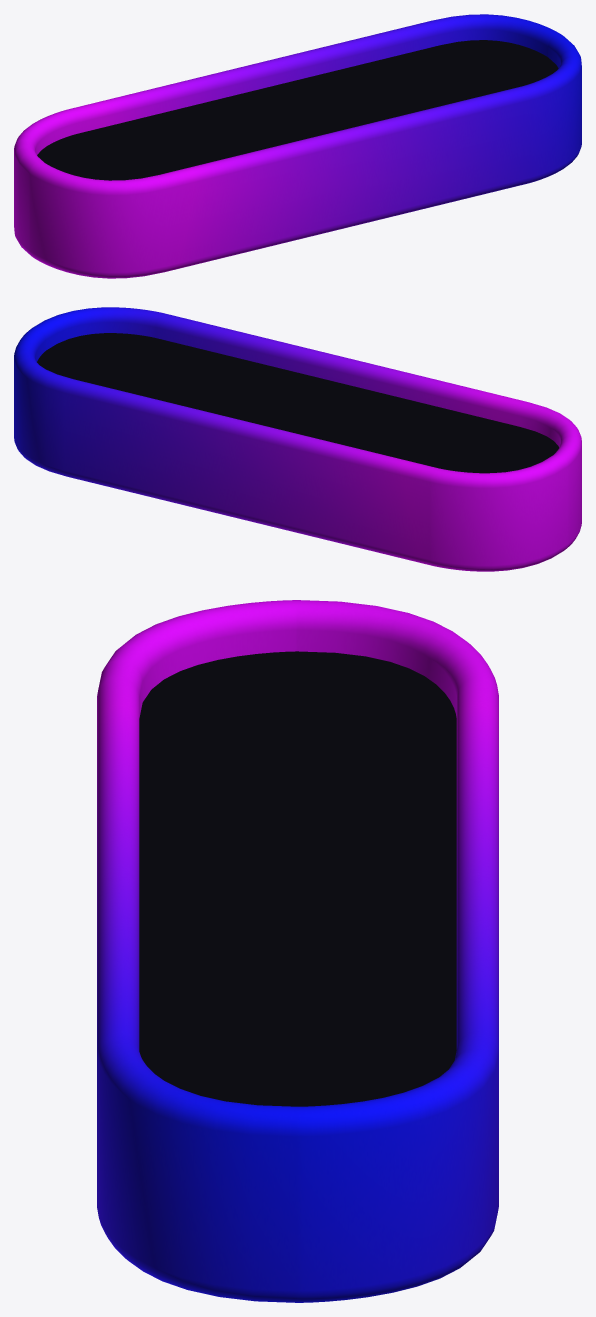
Rendered from Paddle-16.dae.
3 views of the same model, one above another, from view 1: azimuth 30°, elevation 25°; view 2: azimuth 150°, elevation 25°; view 3: azimuth 270°, elevation 25° (orthographic). The views are drawn at different scales.
Visible parts, largest first — view 1: Paddle; view 2: Paddle; view 3: Paddle.
Part boxes in pixels (x1,y1,x2,y2): Paddle: [14, 14, 581, 278]; Paddle: [14, 307, 581, 571]; Paddle: [97, 600, 498, 1302].
Bounding box in the file's own units: 0.303 × 0.0519 × 0.0982.
2 materials, 1 textured.
